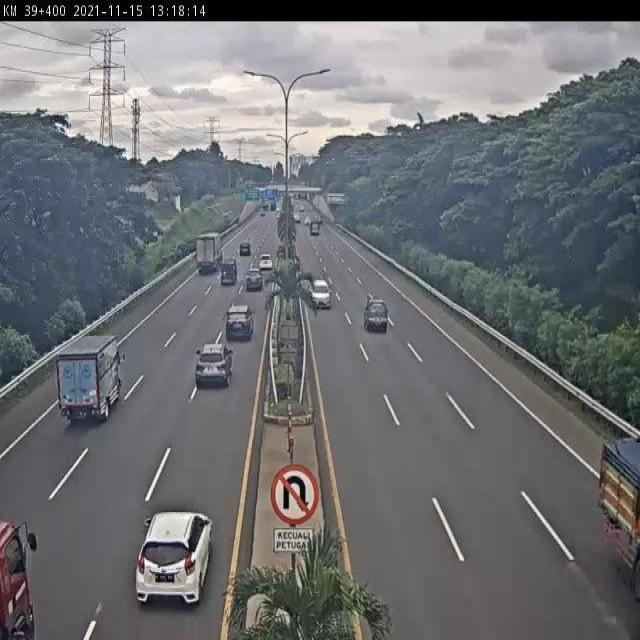car: (133, 510, 216, 606), (196, 341, 236, 387), (224, 304, 256, 340), (309, 279, 333, 308), (244, 266, 263, 290)
truck-s-: (57, 333, 122, 424), (365, 297, 389, 332)
